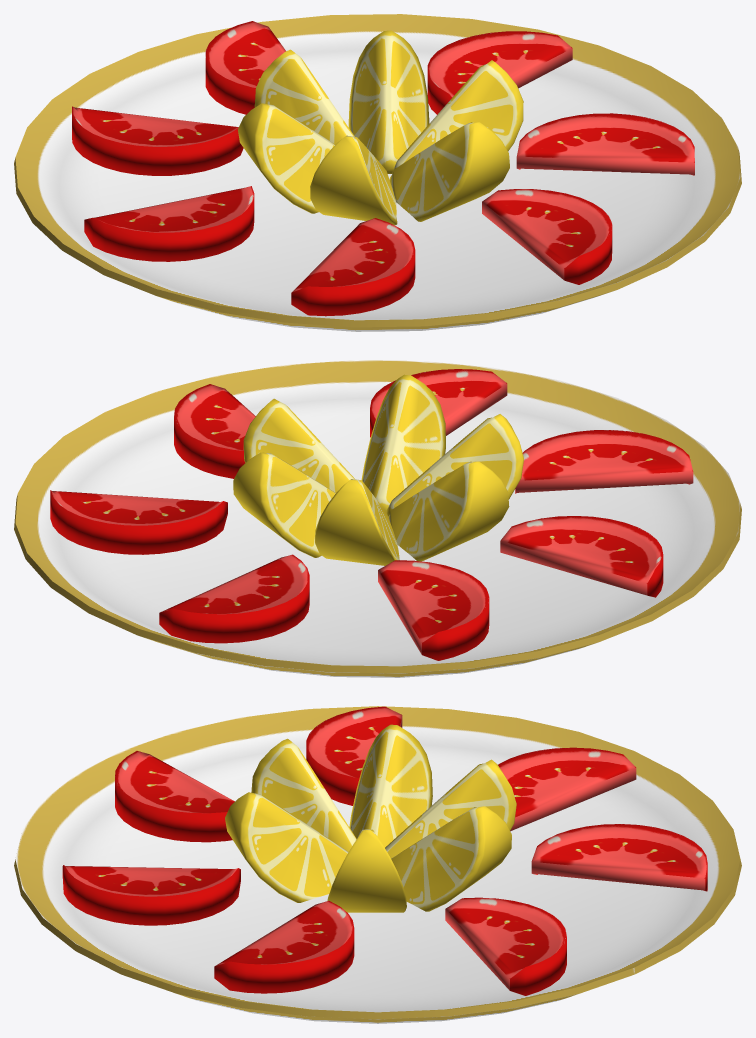
The model's file is TabakDomatesLimon.fbx.
3 views of the same model, one above another, from view 1: azimuth 30°, elevation 25°; view 2: azimuth 150°, elevation 25°; view 3: azimuth 270°, elevation 25° (orthographic).
Visible parts, largest first — view 1: TabakDomatesLimon; view 2: TabakDomatesLimon; view 3: TabakDomatesLimon.
Part boxes in pixels (<box>): TabakDomatesLimon: <box>14,14,741,331</box>; TabakDomatesLimon: <box>14,360,741,677</box>; TabakDomatesLimon: <box>14,706,741,1023</box>.
Bounding box in the file's own units: 0.8717 × 0.1454 × 0.8717.
